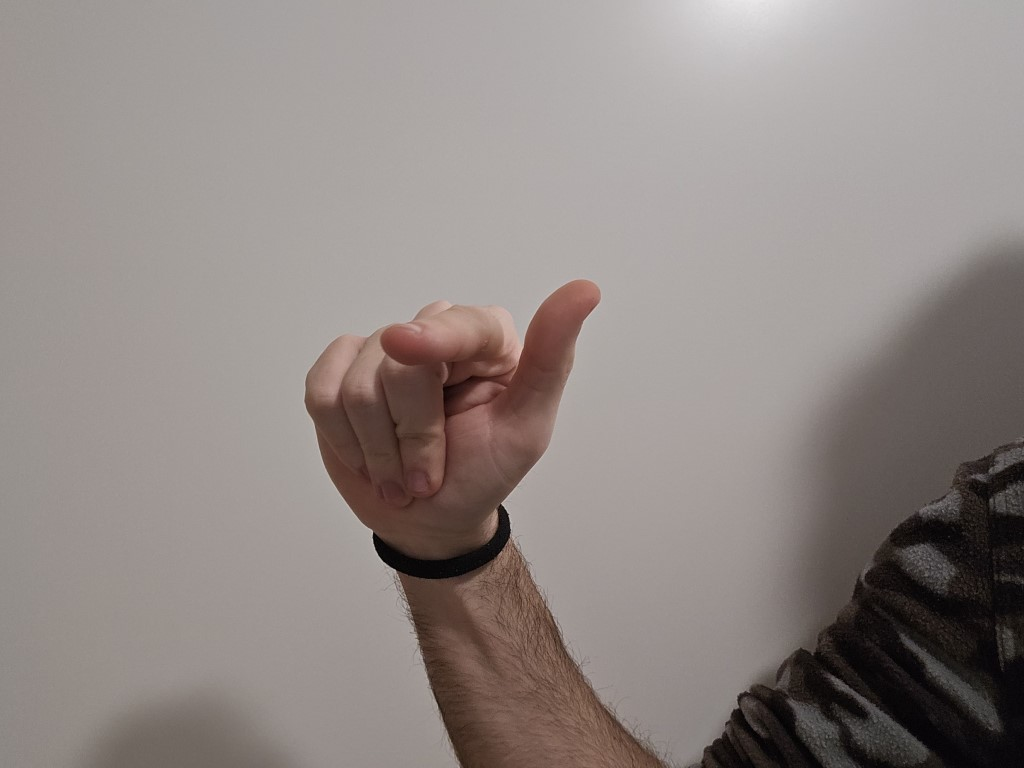t: (271, 231, 620, 531)
